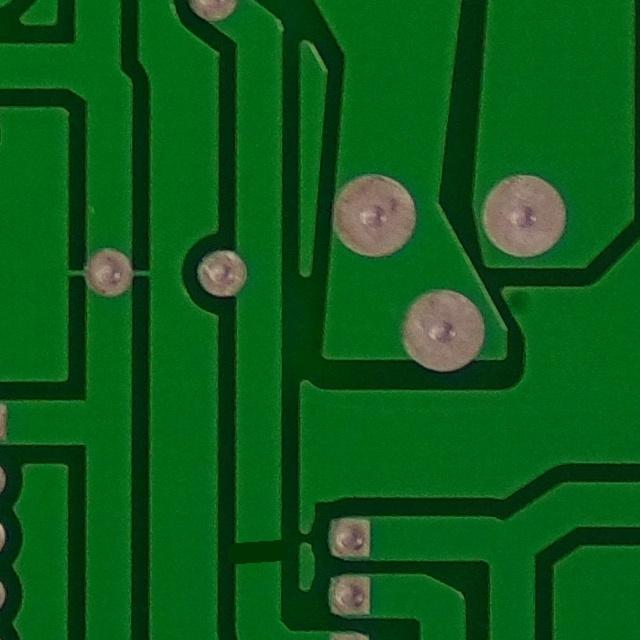open_circuit: (224, 528, 291, 588)
